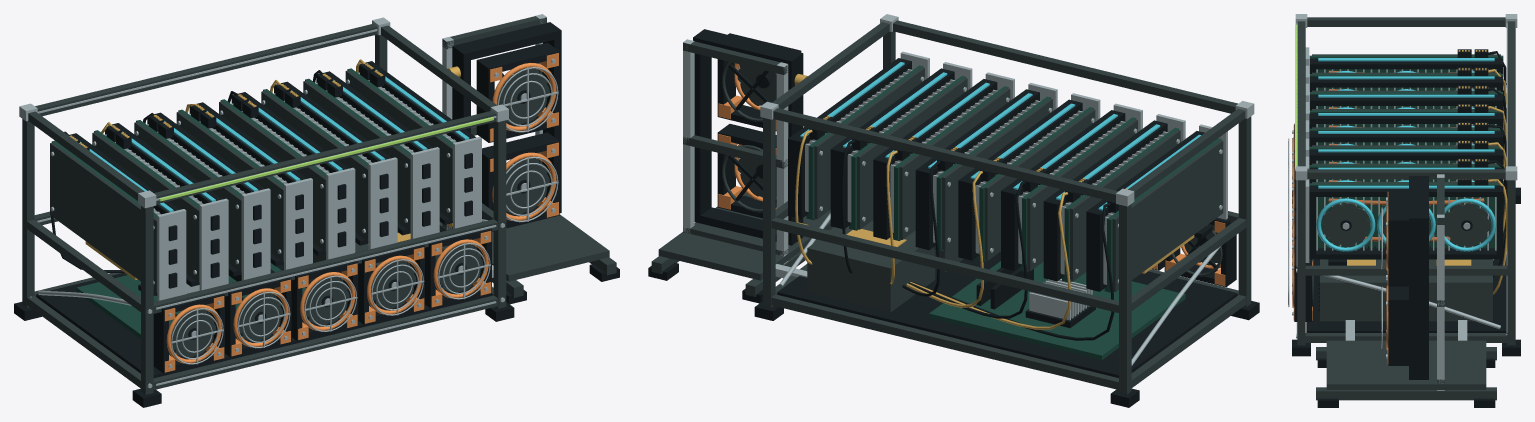
The model's file is rig-8-none-air.glb.
3 views of the same model, side by side, from view 1: azimuth 30°, elevation 25°; view 2: azimuth 150°, elevation 25°; view 3: azimuth 270°, elevation 25° (orthographic). The views are drawn at different scales.
Parts seen in each view (by area): view 1: Anodized graphite (×9), Rubber and ABS (×17), Brushed aluminium (×17), gpu-triple (×8), Industrial orange (×7), Circuit board, rig-8-none-air; view 2: Anodized graphite (×4), Rubber and ABS (×13), gpu-triple (×8), Brushed aluminium (×10), Circuit board, Industrial orange (×2), slot-cable-1, slot-cable-2, slot-cable-3, slot-cable-4, slot-cable-5; view 3: Anodized graphite (×4), Rubber and ABS (×14), gpu-triple (×8), Coolant blue (×8), Brushed aluminium (×8), Industrial orange (×2), rig-8-none-air, Contacts, Copper heat pipes, slot-cable-8.
Part boxes in pixels (x1=…): Anodized graphite (×9): x1=22, y1=16, x2=616, y2=394; Rubber and ABS (×17): x1=14, y1=22, x2=561, y2=407; Brushed aluminium (×17): x1=19, y1=14, x2=558, y2=388; gpu-triple (×8): x1=50, y1=68, x2=452, y2=292; Industrial orange (×7): x1=164, y1=53, x2=558, y2=372; Circuit board: x1=76, y1=263, x2=307, y2=349; rig-8-none-air: x1=159, y1=117, x2=493, y2=201; Anodized graphite (×4): x1=651, y1=20, x2=1251, y2=394; Rubber and ABS (×13): x1=693, y1=29, x2=1259, y2=407; gpu-triple (×8): x1=808, y1=65, x2=1223, y2=292; Brushed aluminium (×10): x1=683, y1=14, x2=1254, y2=365; Circuit board: x1=806, y1=214, x2=1185, y2=359; Industrial orange (×2): x1=718, y1=63, x2=776, y2=209; slot-cable-1: x1=911, y1=203, x2=1114, y2=340; slot-cable-2: x1=910, y1=192, x2=1070, y2=329; slot-cable-3: x1=908, y1=181, x2=1027, y2=318; slot-cable-4: x1=906, y1=171, x2=983, y2=307; slot-cable-5: x1=902, y1=160, x2=940, y2=296; Anodized graphite (×4): x1=1297, y1=17, x2=1515, y2=400; Rubber and ABS (×14): x1=1292, y1=49, x2=1520, y2=407; gpu-triple (×8): x1=1309, y1=54, x2=1503, y2=248; Coolant blue (×8): x1=1316, y1=58, x2=1496, y2=251; Brushed aluminium (×8): x1=1295, y1=14, x2=1517, y2=390; Industrial orange (×2): x1=1292, y1=192, x2=1388, y2=320; rig-8-none-air: x1=1295, y1=24, x2=1297, y2=170; Contacts: x1=1347, y1=259, x2=1471, y2=265; Copper heat pipes: x1=1328, y1=198, x2=1484, y2=241; slot-cable-8: x1=1488, y1=179, x2=1507, y2=294.
Bounding box in the file's own units: 8.02 × 3.32 × 3.72.
